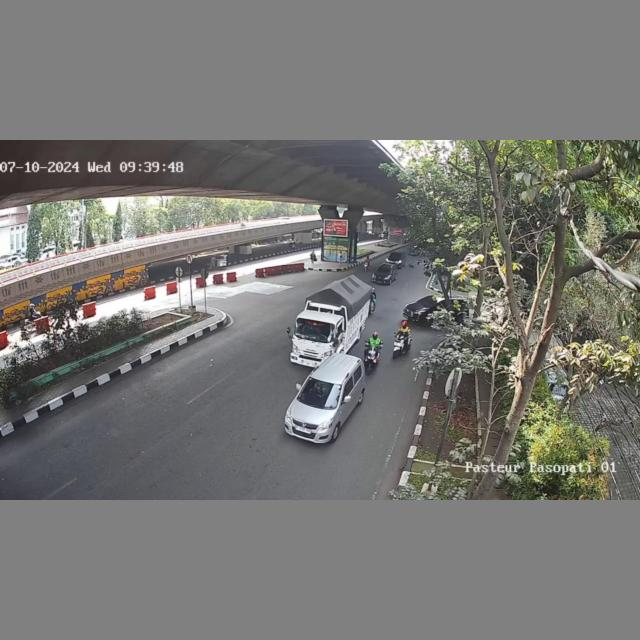windshield: (301, 378, 344, 407), (297, 319, 336, 342)
